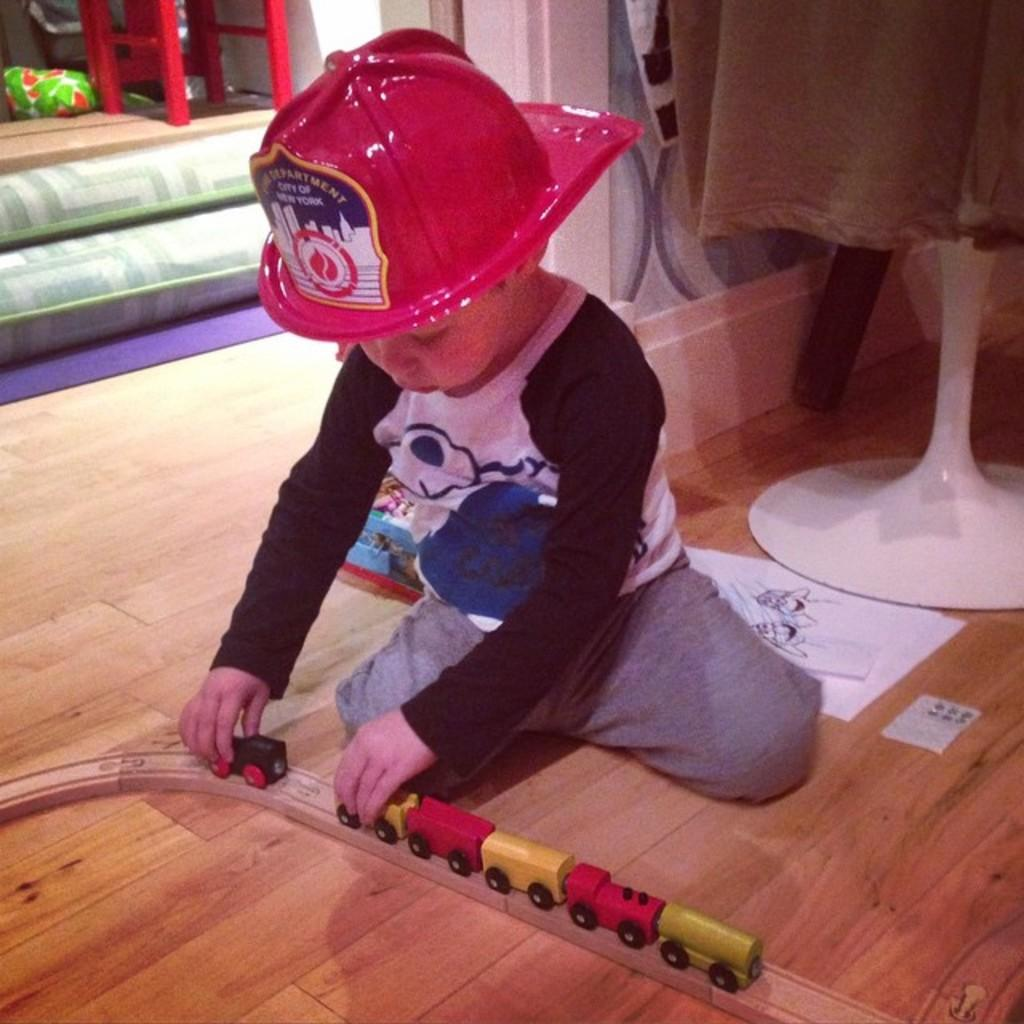Hat: (244, 26, 646, 338)
